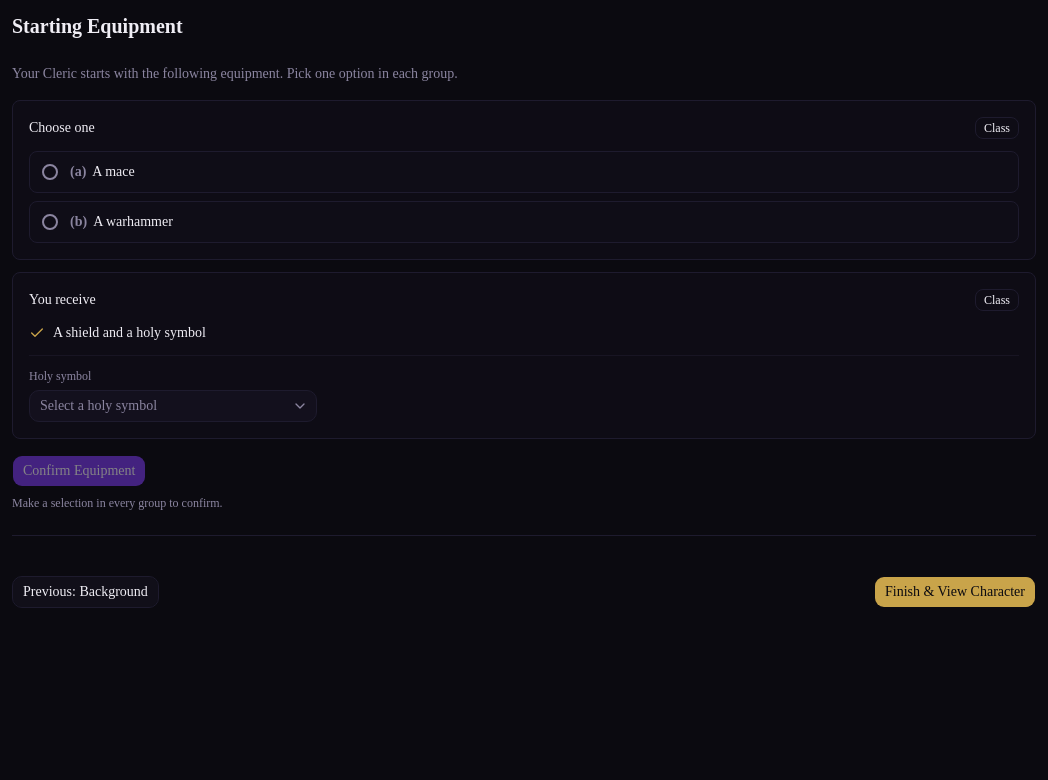
it: EquipmentStepClient › disables Confirm until every choice and pick is made
This screenshot has width=1048, height=780.
Expected: the button "Confirm Equipment" is disabled, x1=12 y1=455 x2=146 y2=487
# Choose the mace
What coordinates should you click on to do the following:
click the button "(a)A mace"
I would click on:
 (114, 172)
Its box is x1=29 y1=151 x2=1019 y2=193.
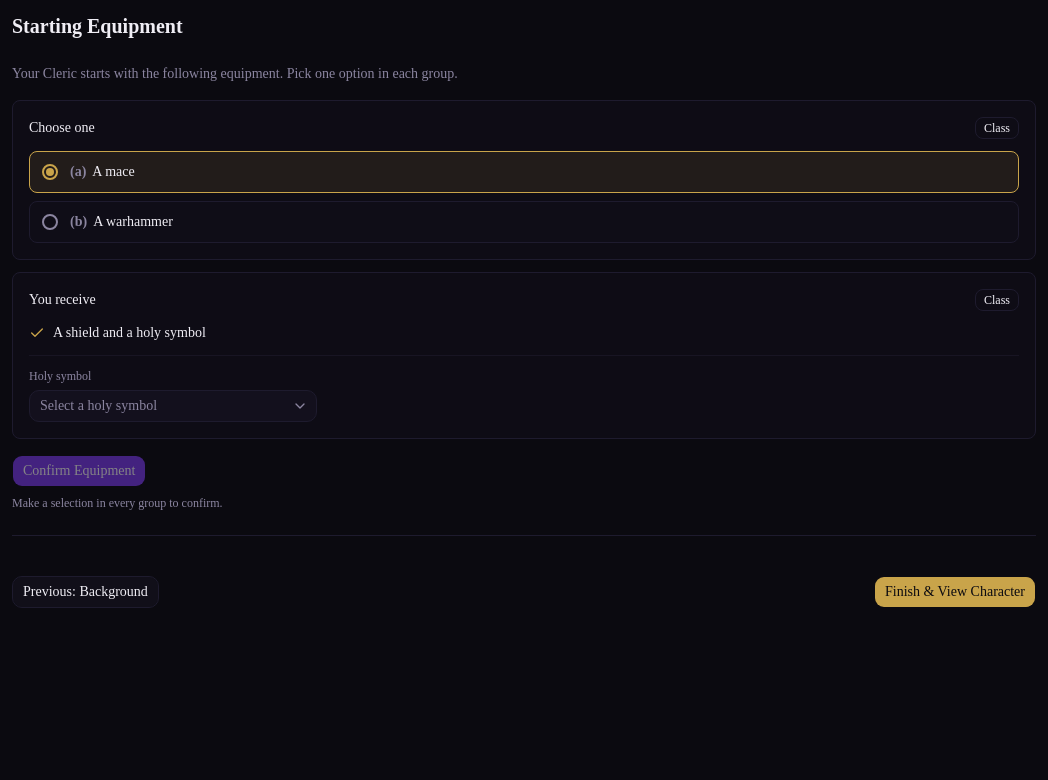
Expected: the button "Confirm Equipment" is disabled, x1=12 y1=455 x2=146 y2=487
# Pick the holy symbol
What coordinates should you click on to do the following:
click the dropdown labelled "holy symbol"
I would click on:
 (99, 406)
Its box is x1=29 y1=390 x2=317 y2=422.
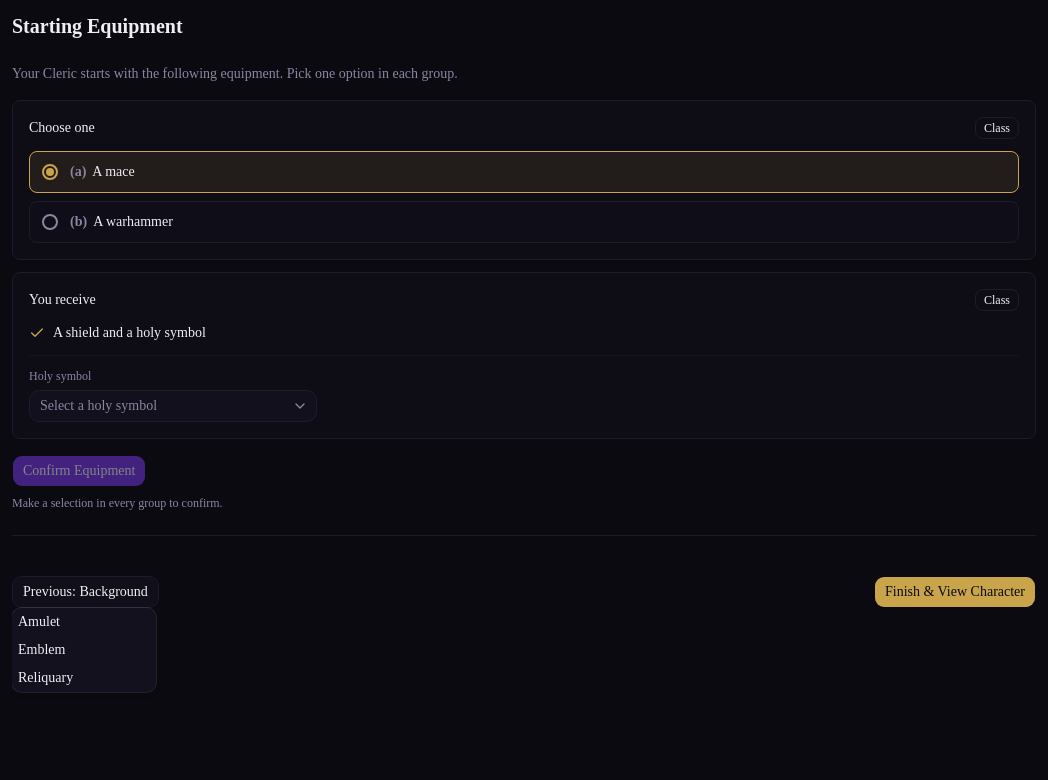
What coordinates should you click on to do the following:
click the option "Amulet"
I would click on:
 (39, 622)
Its box is x1=18 y1=614 x2=60 y2=629.
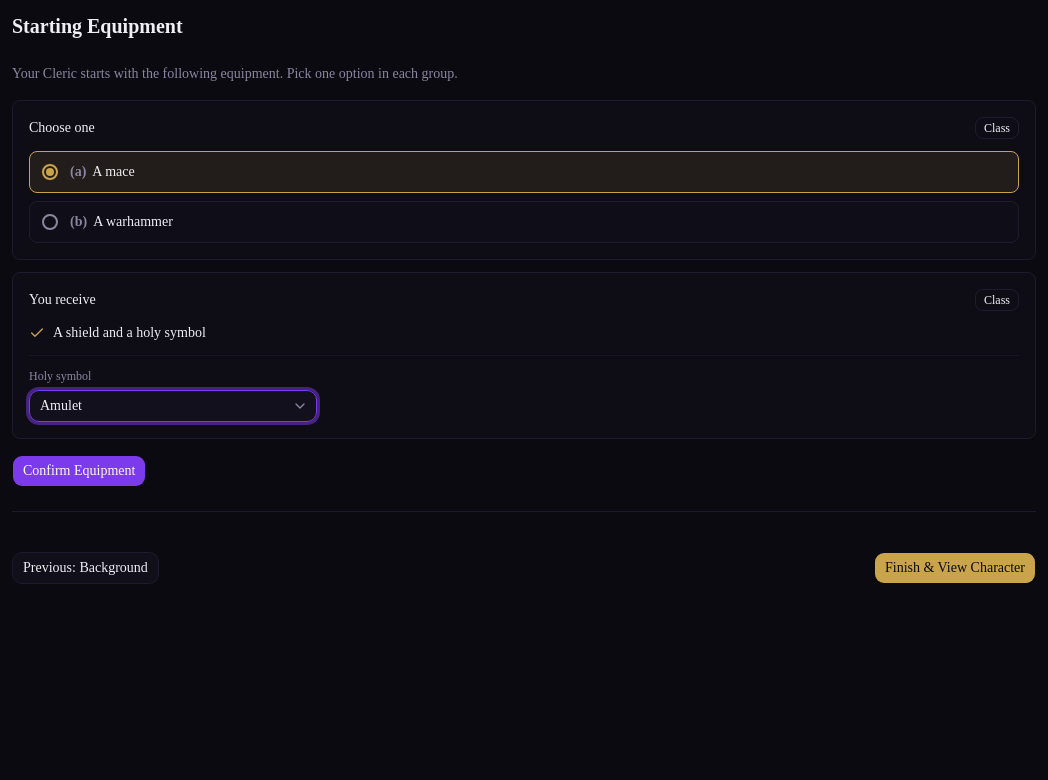
Now the button "Confirm Equipment" is enabled, box x1=12 y1=455 x2=146 y2=487
